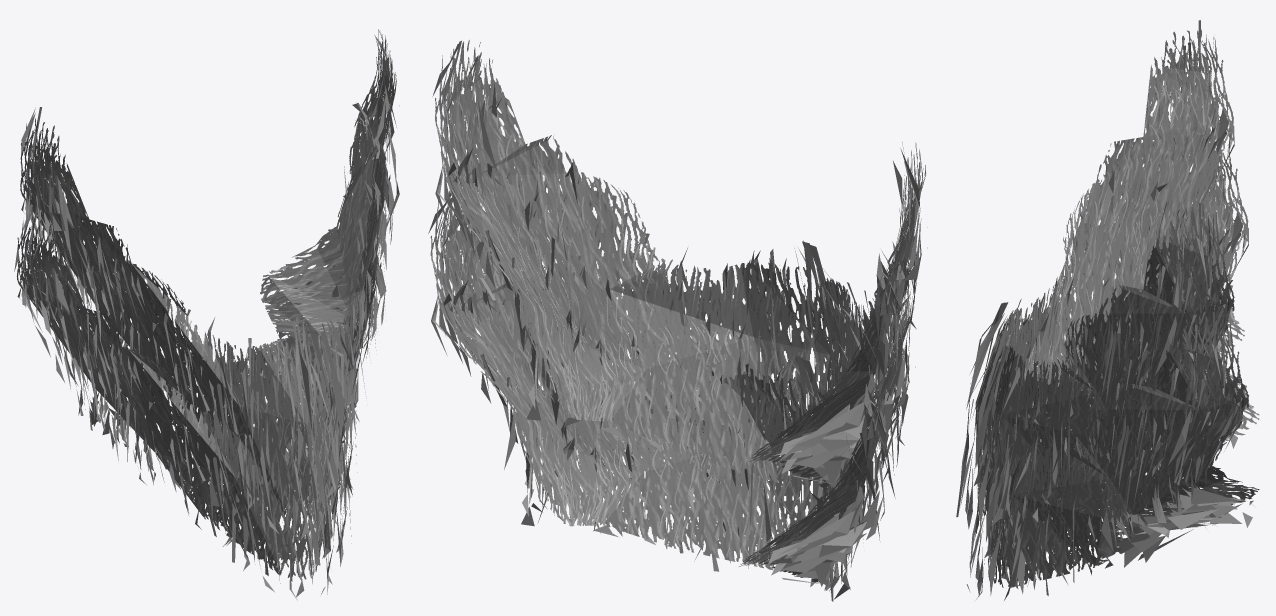
Rendered from bart_wikinger.glb.
The picture shows the model from 3 angles, left to right: view 1: azimuth 30°, elevation 25°; view 2: azimuth 150°, elevation 25°; view 3: azimuth 270°, elevation 25°; orthographic projection. The views are drawn at different scales.
Parts seen in each view (by area): view 1: Bart_Wikinger_M, Bart_Wikinger_W; view 2: Bart_Wikinger_M, Bart_Wikinger_W; view 3: Bart_Wikinger_M, Bart_Wikinger_W.
Part boxes in pixels (x1,y1,x2,y2): Bart_Wikinger_M: (20,29,399,541); Bart_Wikinger_W: (14,185,387,600); Bart_Wikinger_M: (432,40,927,498); Bart_Wikinger_W: (428,190,915,601); Bart_Wikinger_M: (956,20,1244,529); Bart_Wikinger_W: (966,141,1259,600).
Size of the model in its own units: 0.1529 by 0.1806 by 0.102.
Materials: 1 (1 with a texture image).
